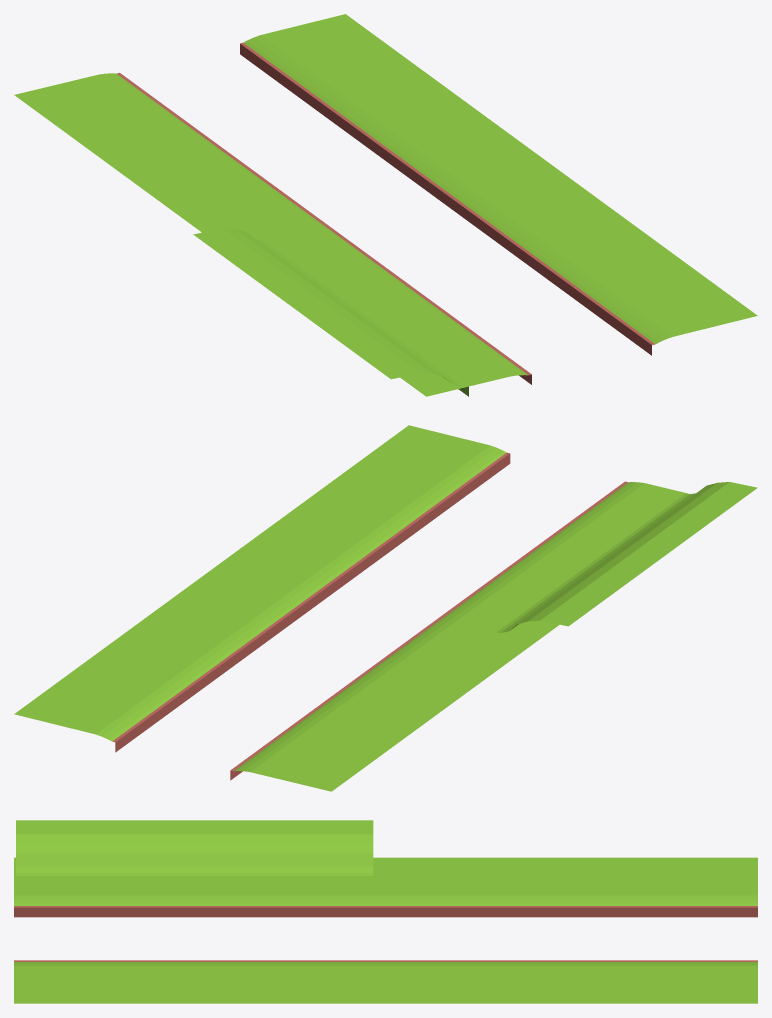
Rendered from offroad.glb.
The picture shows the model from 3 angles, top to bottom: view 1: azimuth 30°, elevation 25°; view 2: azimuth 150°, elevation 25°; view 3: azimuth 270°, elevation 25°; orthographic projection. The views are drawn at different scales.
Visible parts, largest first — view 1: Offroad1, Hill; view 2: Offroad1, Hill; view 3: Offroad1, Hill.
Boxes of the visible parts, x1,y1,x2,y2 form: Offroad1: (14, 14, 757, 396); Hill: (193, 228, 468, 396); Offroad1: (14, 425, 689, 791); Hill: (496, 482, 757, 632); Offroad1: (14, 857, 757, 1003); Hill: (16, 820, 373, 875).
Size of the model in its own units: 205 by 20.99 by 400.
